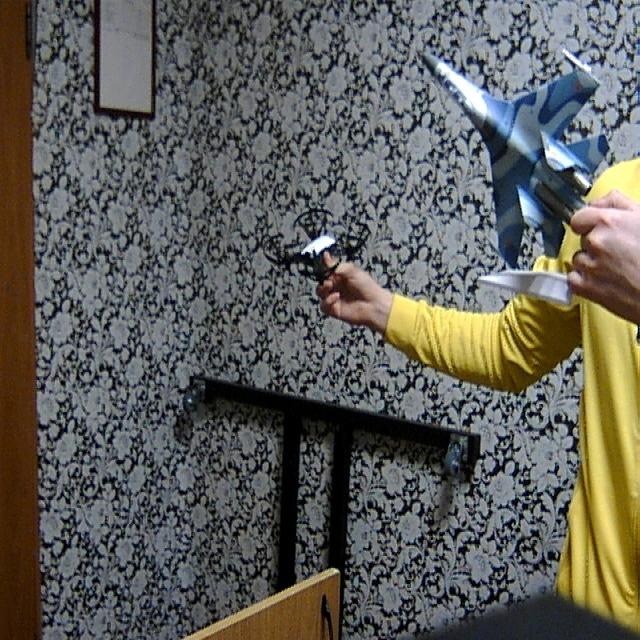drone: (254, 183, 372, 302)
